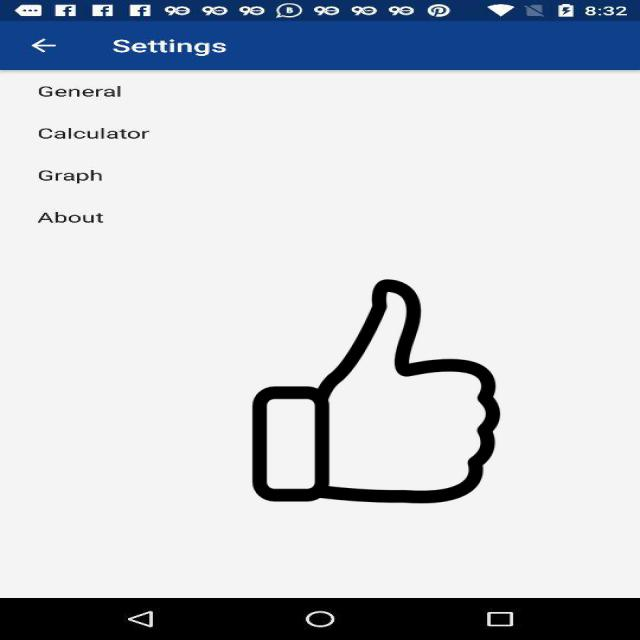privacy zuckering: (249, 280, 504, 503)
